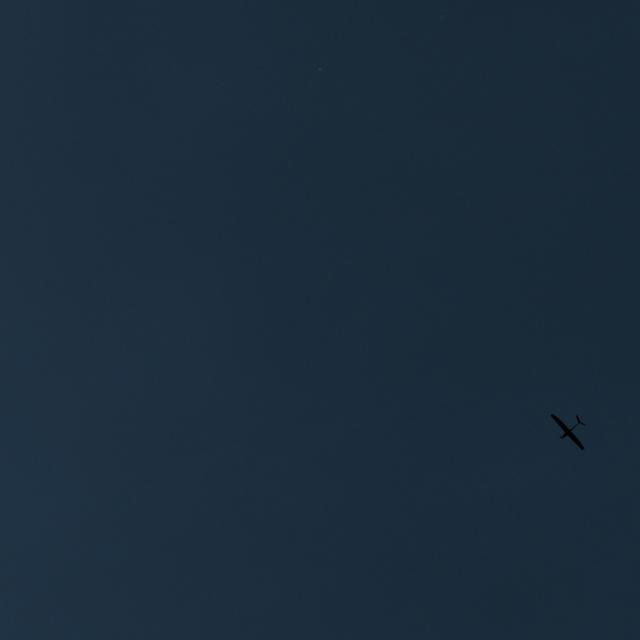Airaplan: (550, 414, 585, 451)
